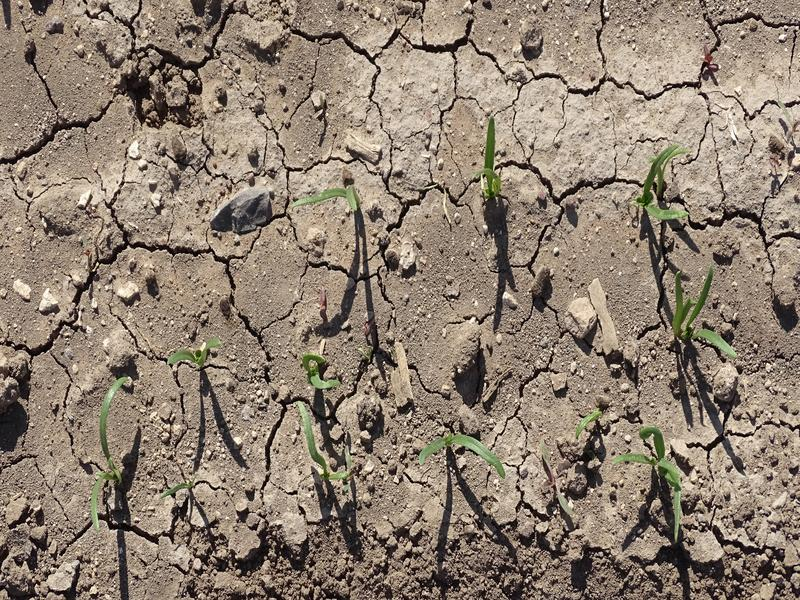Espinaca: (289, 359, 354, 484), (621, 425, 688, 537), (86, 374, 134, 527), (671, 264, 738, 358), (636, 144, 689, 223), (412, 434, 505, 471), (292, 181, 366, 213), (479, 119, 502, 199), (166, 331, 219, 363)
